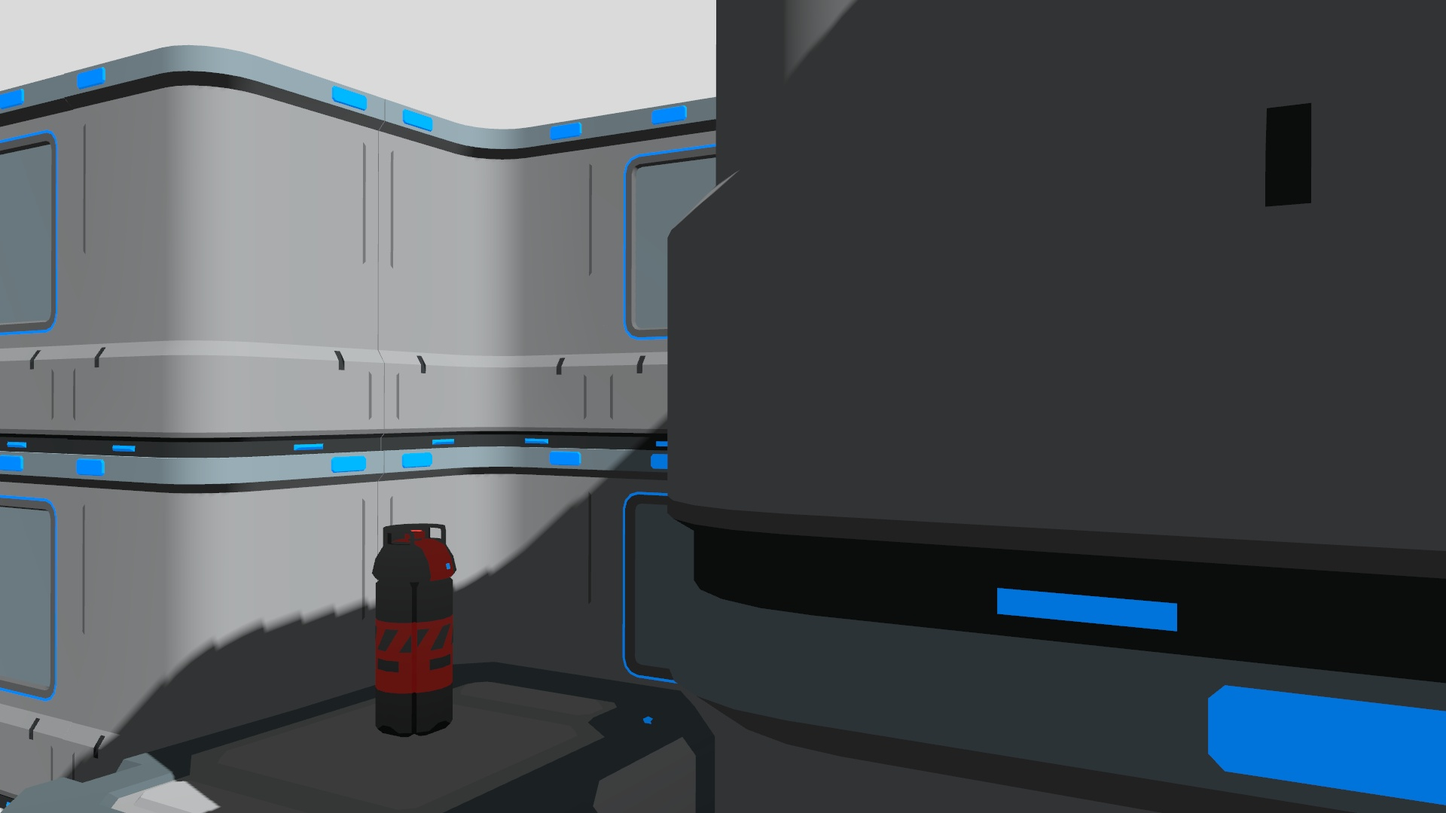red_barrel: (367, 514, 460, 745)
